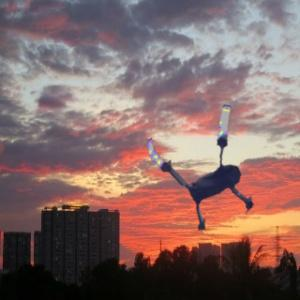drone: (141, 99, 286, 244)
